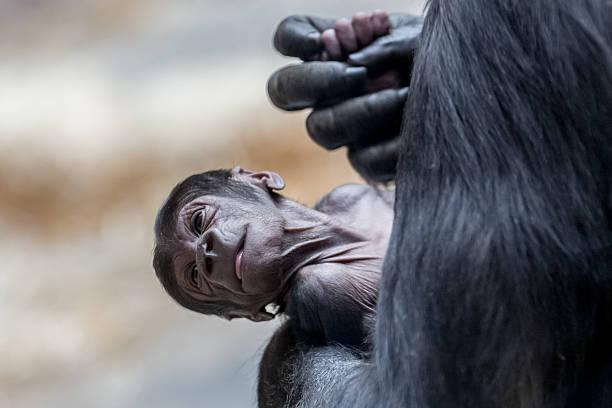gorille_Autres: (128, 150, 414, 403)
